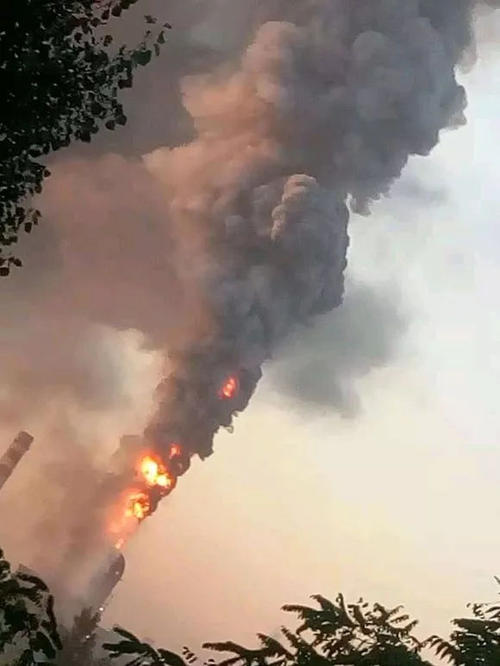fire: (93, 443, 189, 564)
smoke: (96, 1, 430, 395)
